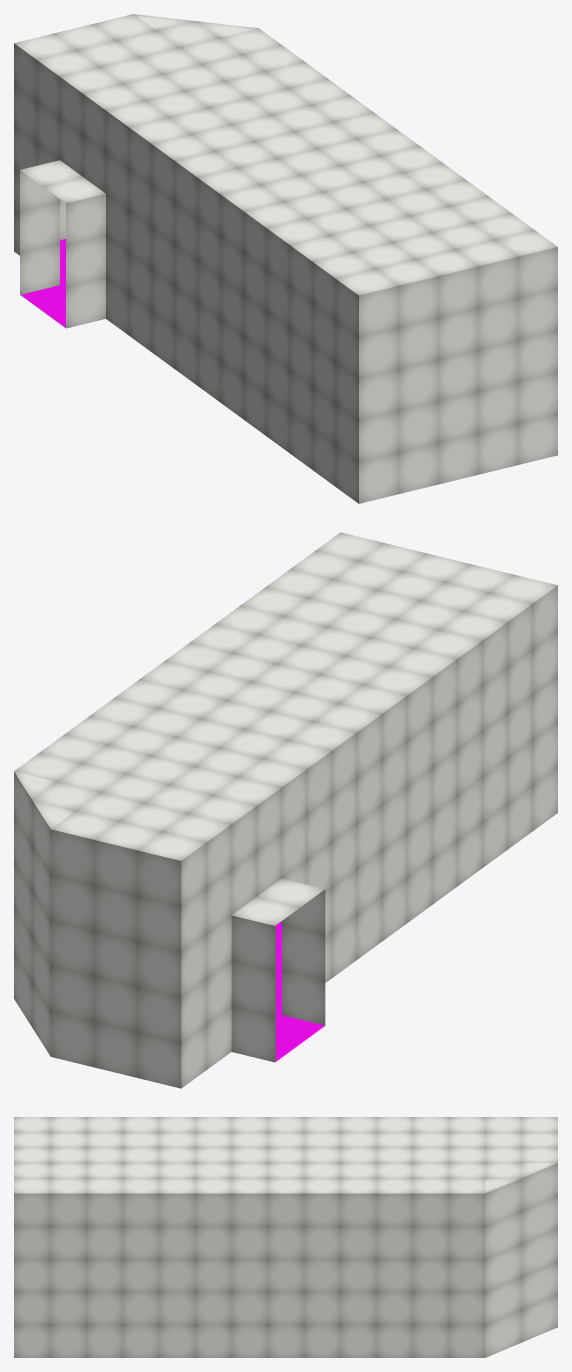
Rendered from hallwayOld.fbx.
3 views of the same model, one above another, from view 1: azimuth 30°, elevation 25°; view 2: azimuth 150°, elevation 25°; view 3: azimuth 270°, elevation 25° (orthographic). The views are drawn at different scales.
Visible parts, largest first — view 1: hallway; view 2: hallway; view 3: hallway.
Part boxes in pixels (x1,y1,x2,y2): hallway: (14, 14, 557, 503); hallway: (14, 532, 557, 1088); hallway: (14, 1117, 557, 1357).
Bounding box in the file's own units: 15 × 6 × 5.
2 materials, 1 textured.
